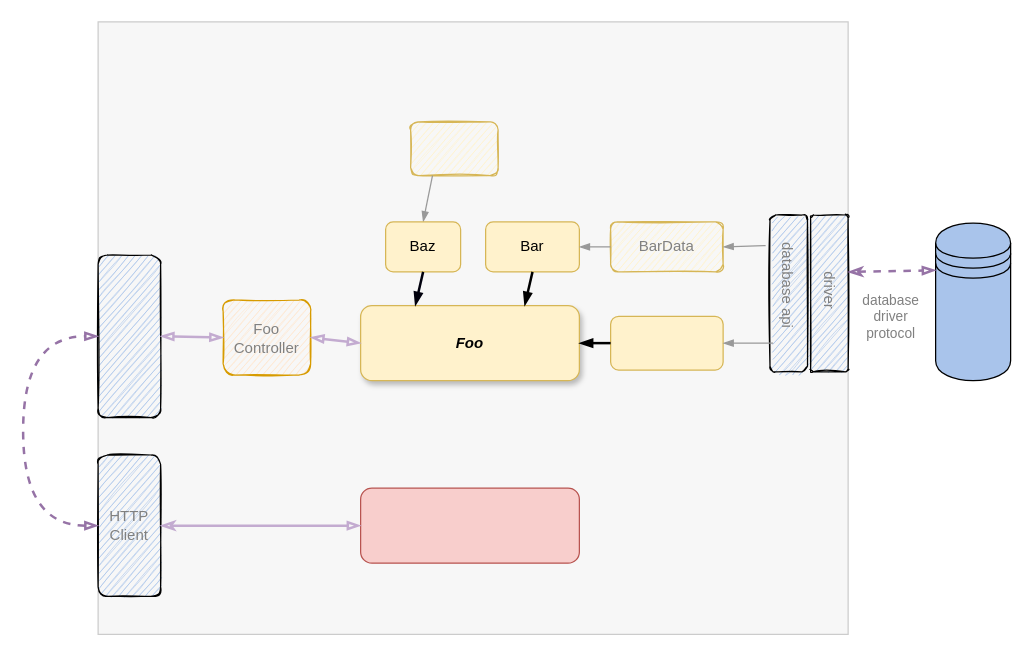
This 1033x656 diagram has some shape labels left out. Here are the shapes that lost their labels. From the top down, the centre of each, then its label:
At pixel 453 148: "Calculator".
At pixel 129 336: "HTTP Server".
At pixel 666 342: "FooData".
At pixel 469 525: "FooComponentTest".
